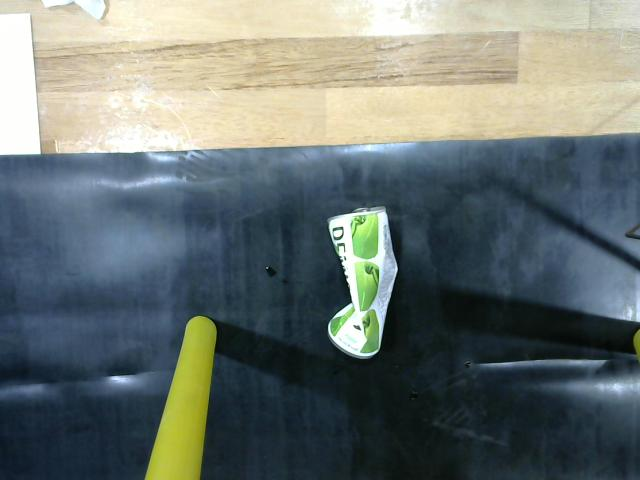can: (316, 194, 410, 364)
